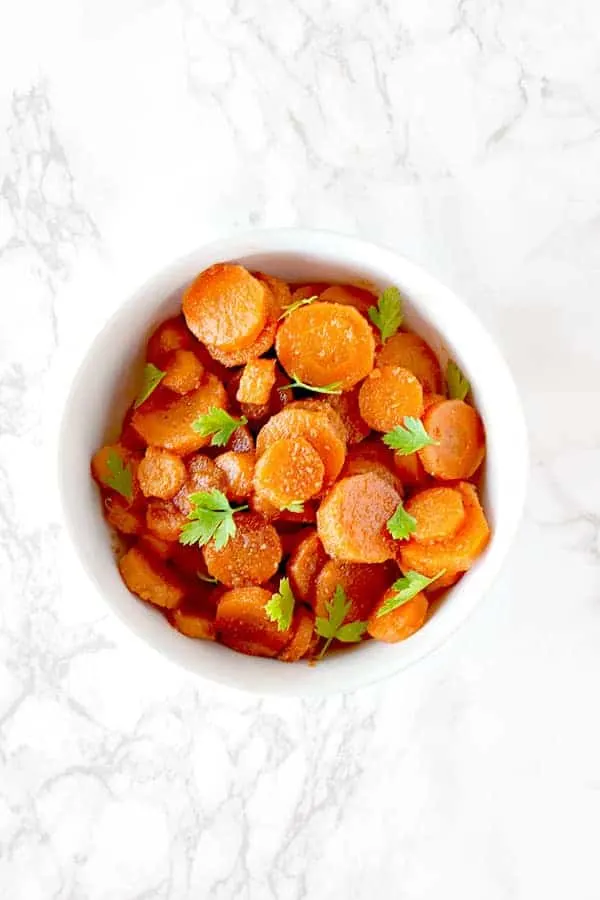carrot: (92, 263, 488, 663)
